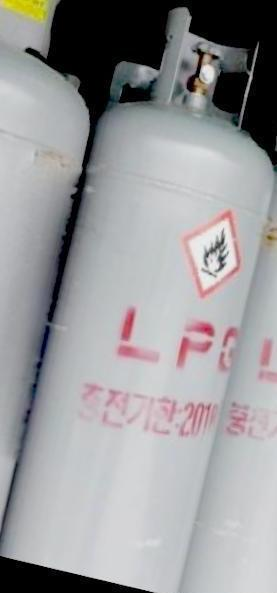cylinder: (0, 1, 277, 593)
